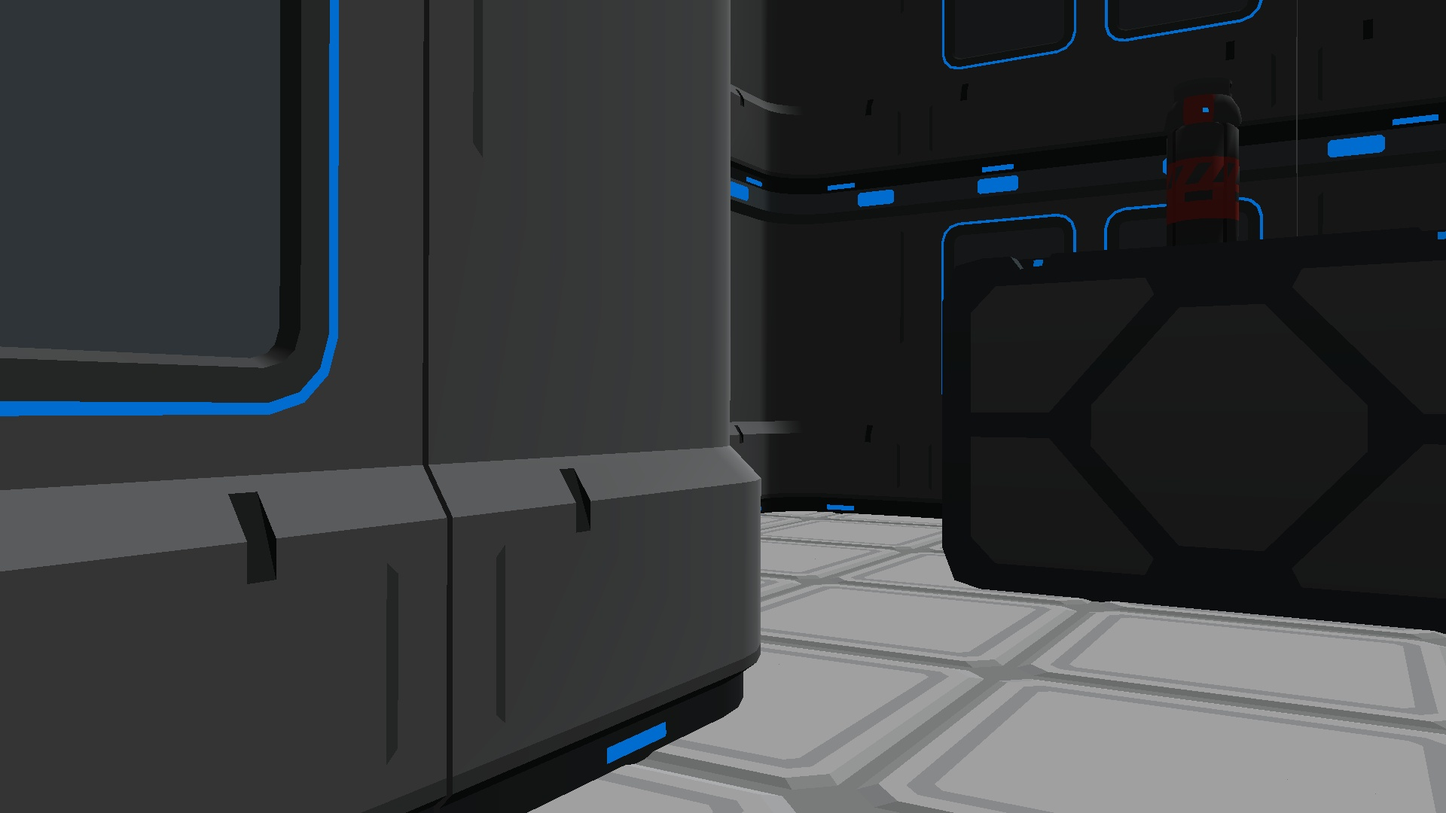red barrel: (1167, 94, 1243, 247)
